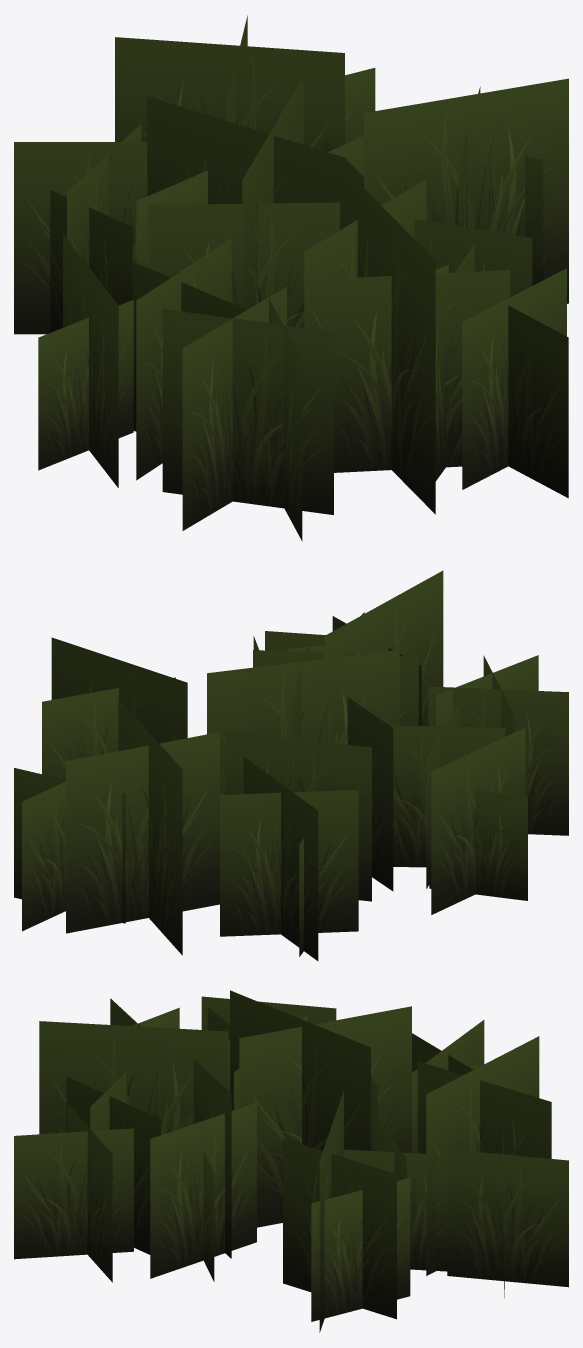
File: Grass_02.fbx
The picture shows the model from 3 angles, top to bottom: view 1: azimuth 30°, elevation 25°; view 2: azimuth 150°, elevation 25°; view 3: azimuth 270°, elevation 25°; orthographic projection. The views are drawn at different scales.
Parts seen in each view (by area): view 1: Grass_02; view 2: Grass_02; view 3: Grass_02.
Boxes of the visible parts, box(x1,y1,x2,y2) form: Grass_02: box(14, 15, 568, 541); Grass_02: box(14, 570, 568, 960); Grass_02: box(14, 990, 568, 1332).
Bounding box in the file's own units: 3.1 × 1.36 × 3.42.
1 material, 1 textured.
